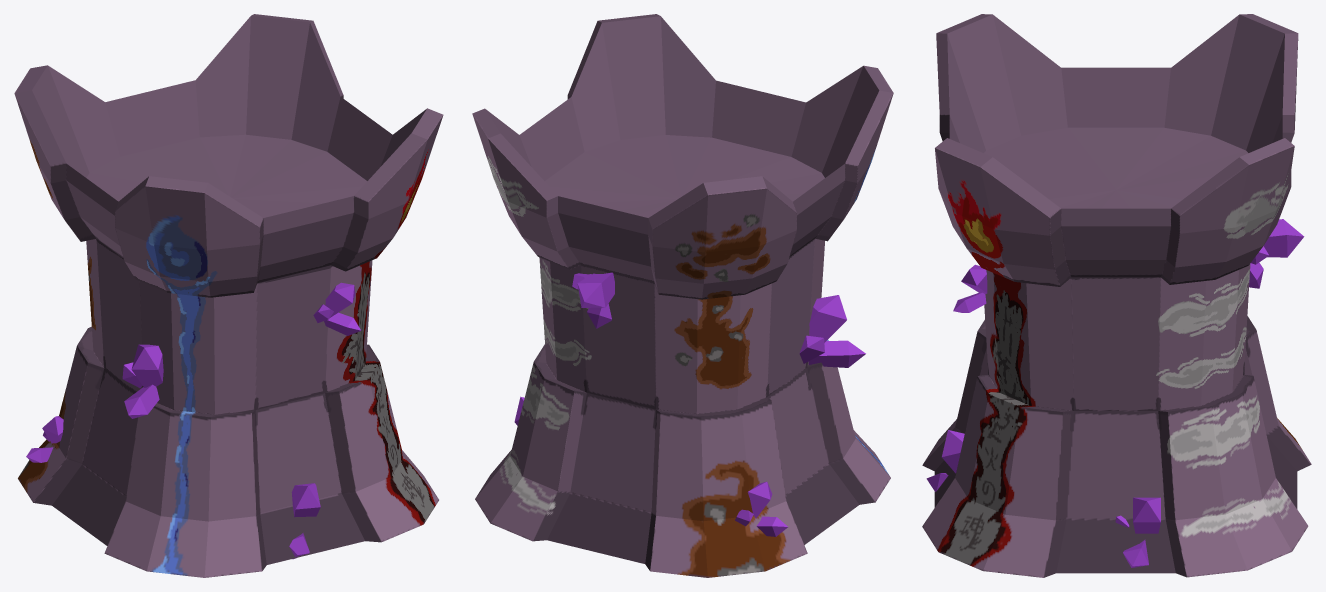
The model's file is magictowerup.fbx.
The picture shows the model from 3 angles, left to right: view 1: azimuth 30°, elevation 25°; view 2: azimuth 150°, elevation 25°; view 3: azimuth 270°, elevation 25°; orthographic projection. The views are drawn at different scales.
Visible parts, largest first — view 1: MagicianTowerUp, Crystals; view 2: MagicianTowerUp, Crystals; view 3: MagicianTowerUp, Crystals.
Part boxes in pixels (bbox=[...]): MagicianTowerUp: bbox=[14, 14, 443, 577]; Crystals: bbox=[26, 282, 361, 559]; MagicianTowerUp: bbox=[472, 14, 893, 577]; Crystals: bbox=[514, 272, 865, 536]; MagicianTowerUp: bbox=[922, 14, 1311, 577]; Crystals: bbox=[926, 219, 1304, 567].
Bounding box in the file's own units: 1.08 × 1.28 × 1.08.
Materials: 2 (2 with a texture image).
